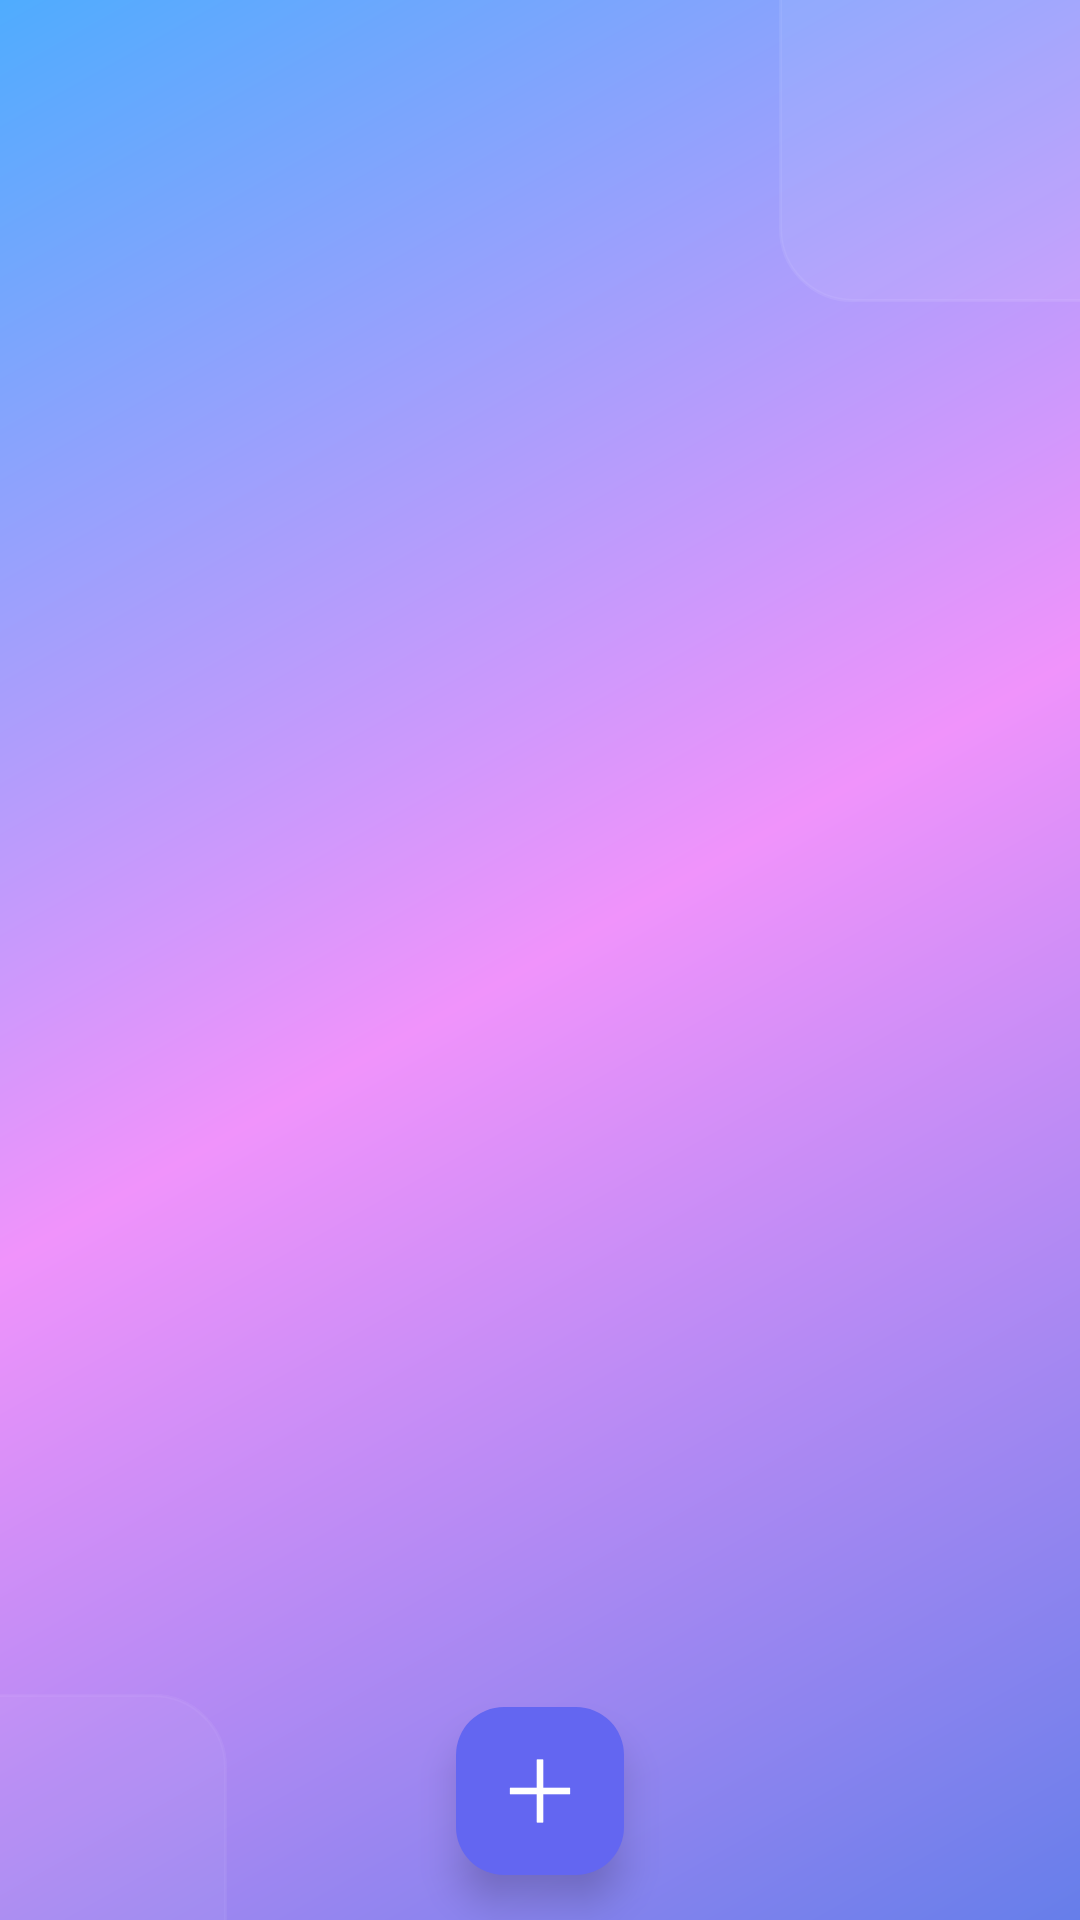

Where icons sit on this 1080px x 1920px app screen, as {"x1": x1, "y1": y1, "x2": x2, "y2": y2}:
添加闹钟: {"x1": 456, "y1": 1707, "x2": 624, "y2": 1875}
